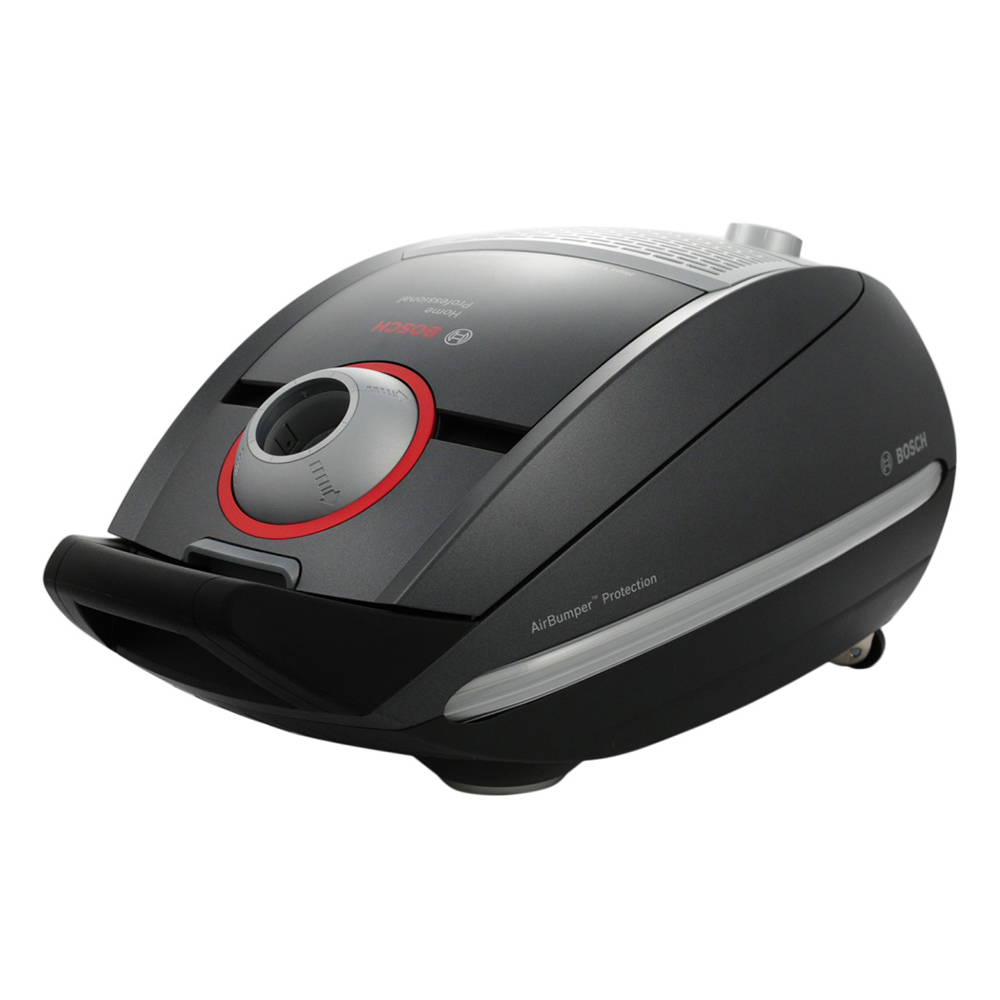Bosch: (371, 313, 443, 341)
